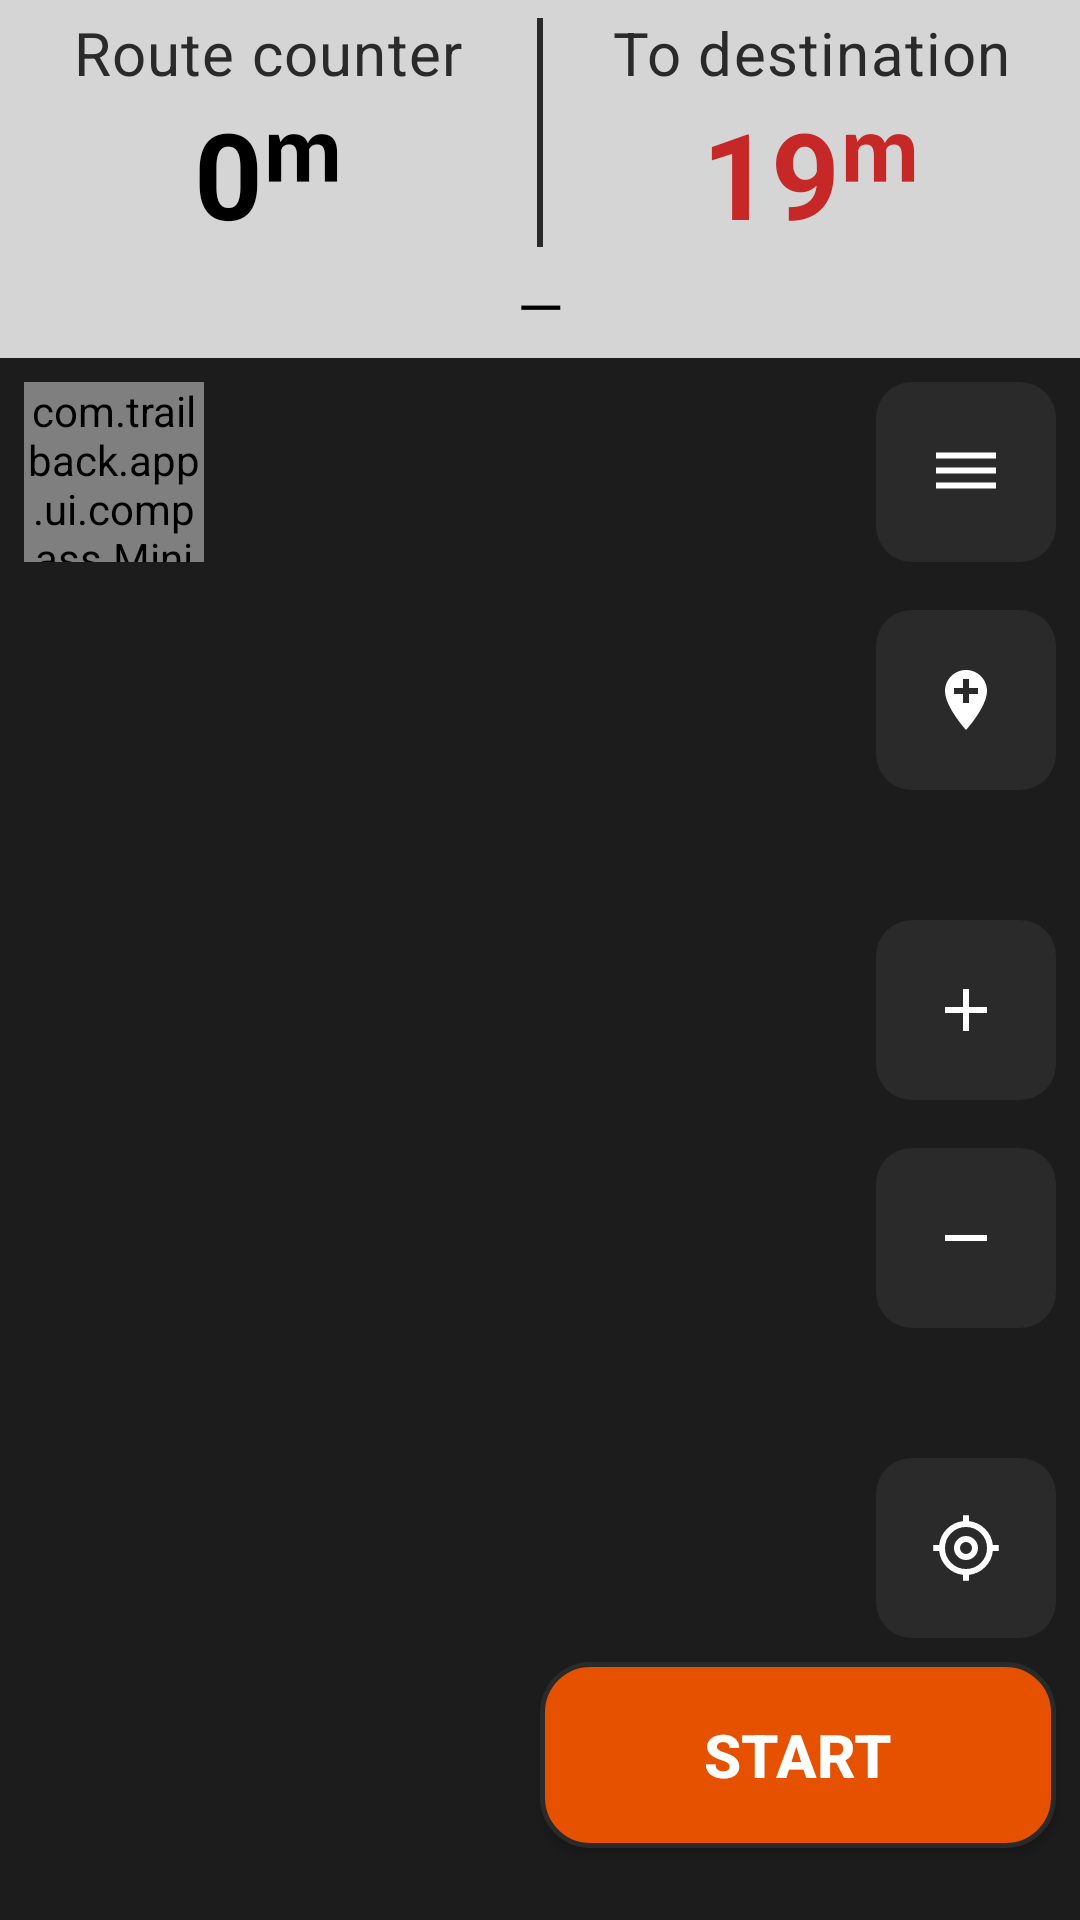

Screen size 1080px x 1920px. Icon name, then its center in pixels as (x,y):
add location: (966,700)
dehaze: (966,470)
recenter: (966,1548)
zoom in: (966,1010)
